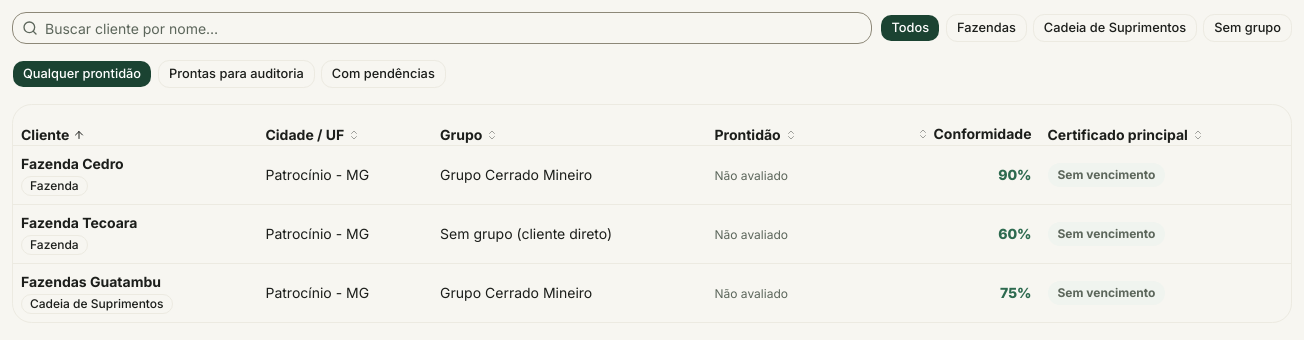
Test: ListaClientes › filtra por fazendas, cadeia de suprimentos e sem grupo
The width and height of the screenshot is (1304, 340).
Click the button "Fazendas": (986, 28) [946,14,1027,42]
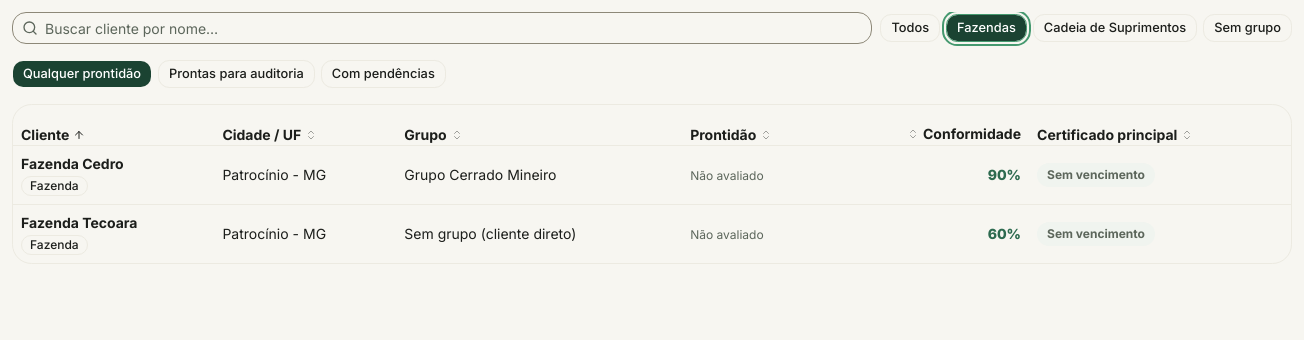
Expected: the link "Fazenda Cedro" is shown, [21,154,124,172]
Expected: the link "Fazendas Guatambu" is gone
Click the button "Cadeia de Suprimentos": (1115, 28) [1033,14,1197,42]
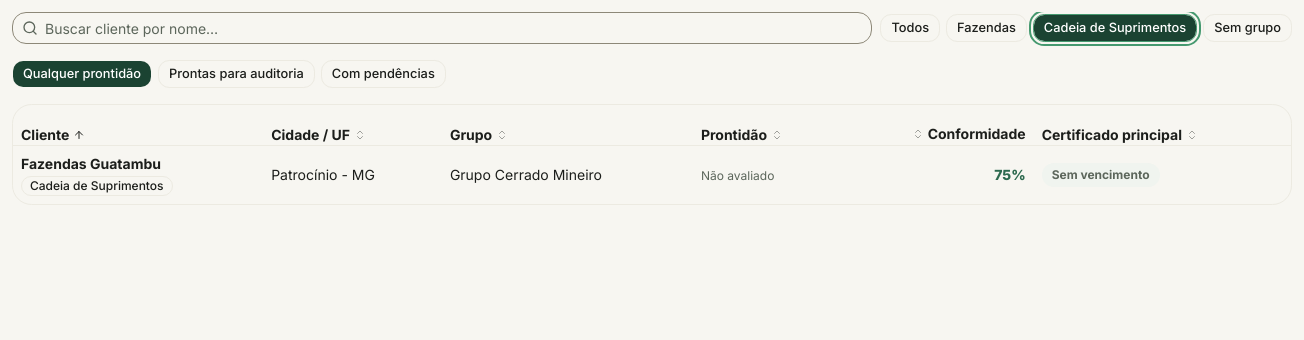
Expected: the link "Fazendas Guatambu" is shown, [21,154,161,172]
Expected: the link "Fazenda Cedro" is gone
Click the button "Sem grupo": (1248, 28) [1203,14,1292,42]
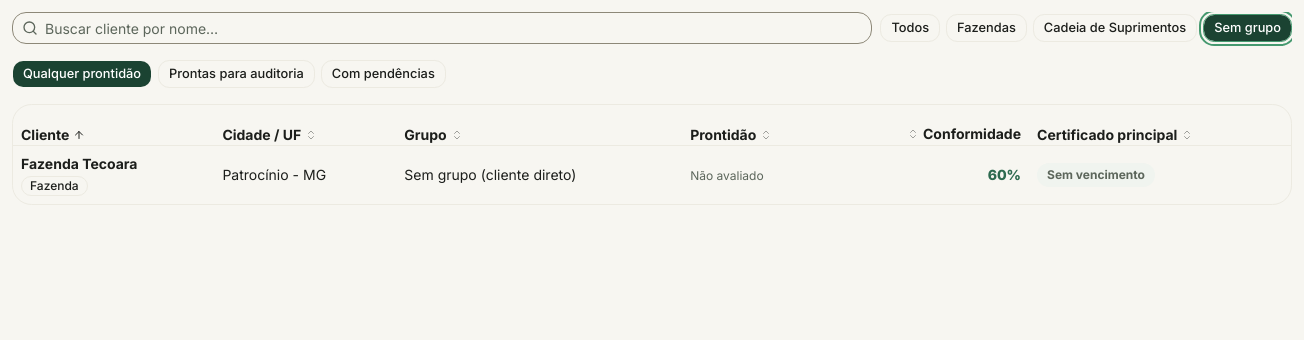
Expected: the link "Fazenda Cedro" is not shown
Expected: the link "Fazenda Tecoara" is shown, [21,154,138,172]
Click the button "Todos": (910, 28) [880,14,940,42]
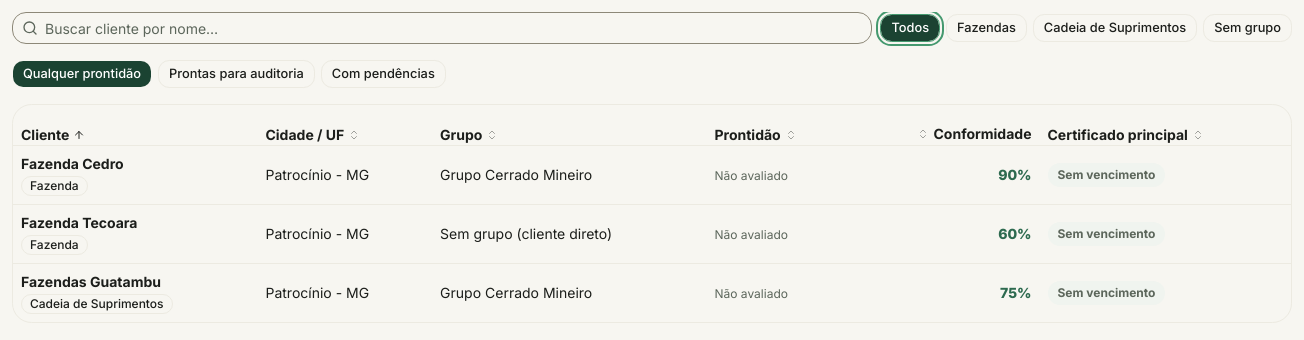
Expected: the link "Fazenda Cedro" is shown, [21,154,124,172]
